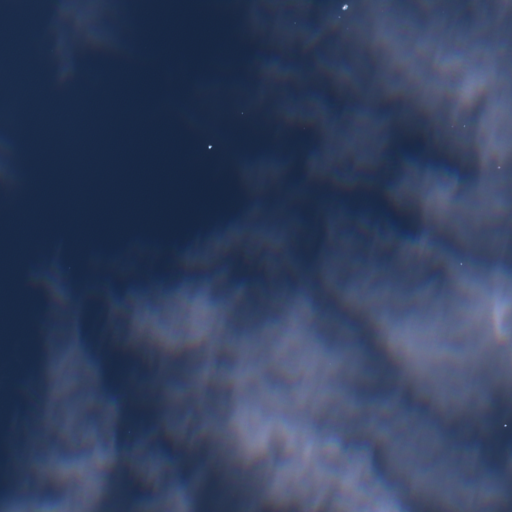Iceberg: (342, 4, 347, 10), (208, 144, 212, 148), (498, 166, 500, 168), (504, 424, 506, 426), (338, 16, 340, 17), (460, 263, 462, 264), (294, 22, 295, 23), (463, 125, 464, 126)
